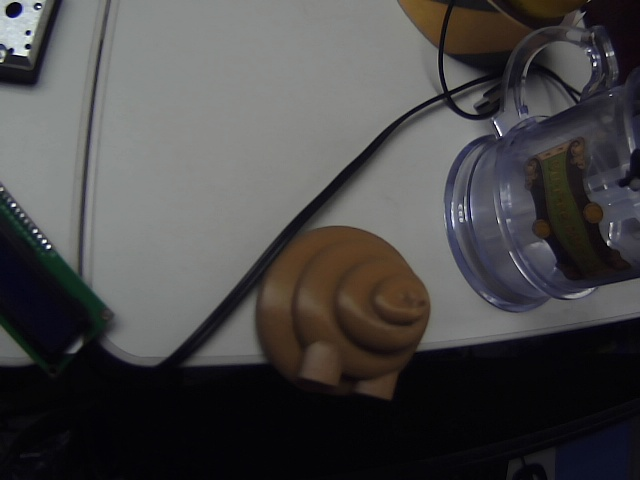shit: (248, 220, 435, 407)
